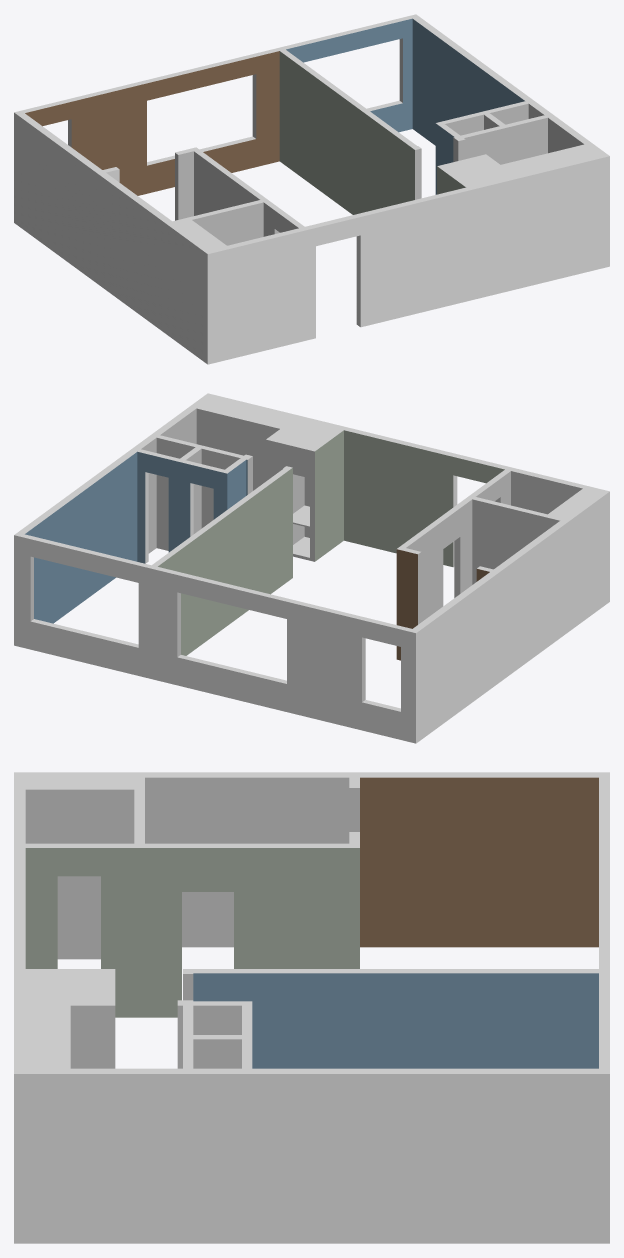
File: 6K shell square.fbx
The picture shows the model from 3 angles, top to bottom: view 1: azimuth 30°, elevation 25°; view 2: azimuth 150°, elevation 25°; view 3: azimuth 270°, elevation 25°; orthographic projection. The views are drawn at different scales.
Parts seen in each view (by area): view 1: Model; view 2: Model; view 3: Model.
Boxes of the visible parts, x1,y1,x2,y2 form: Model: (14, 14, 609, 364); Model: (14, 393, 609, 743); Model: (14, 772, 609, 1243).
Size of the model in its own units: 412 by 108 by 344.
